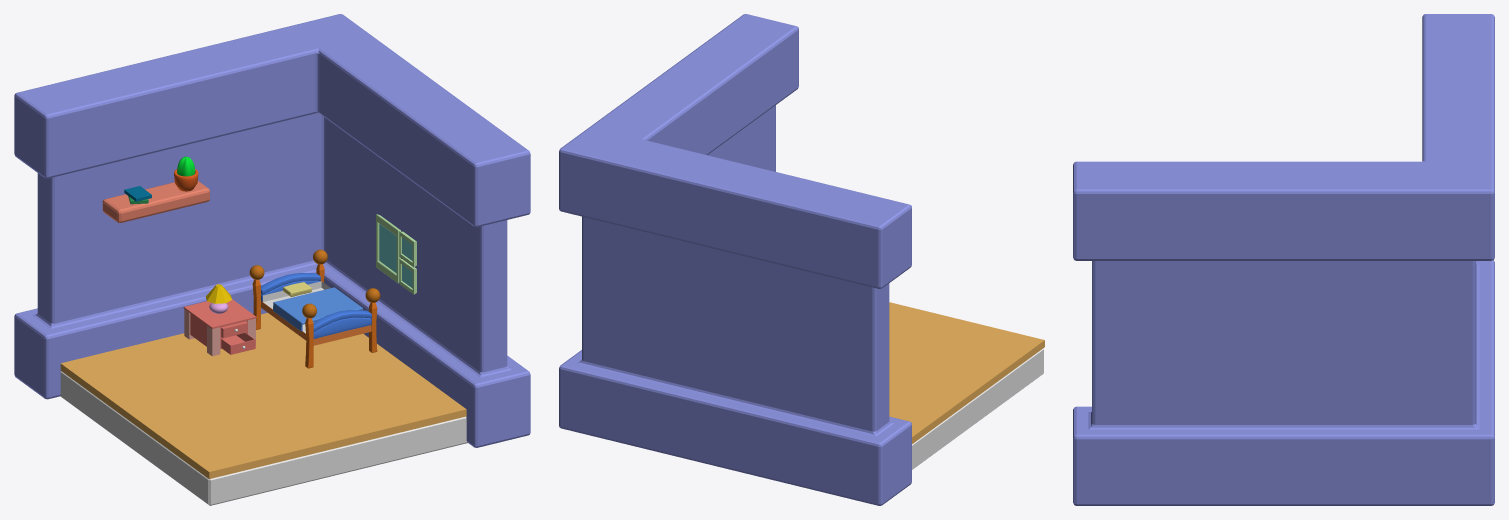
File: myroom.glb
3 views of the same model, side by side, from view 1: azimuth 30°, elevation 25°; view 2: azimuth 150°, elevation 25°; view 3: azimuth 270°, elevation 25° (orthographic). The views are drawn at different scales.
Visible parts, largest first — view 1: 큐브, 평면.001, 평면, 평면.009, 큐브.004, 평면.003, 평면.007, 평면.004, 구체, 평면.010, 큐브.001, 평면.002 (+1 smaller); view 2: 큐브, 평면.001, 평면; view 3: 큐브.
Part boxes in pixels (bbox=[...]): 큐브: bbox=[14, 14, 530, 447]; 평면.001: bbox=[60, 313, 466, 479]; 평면: bbox=[60, 371, 467, 505]; 평면.009: bbox=[183, 299, 256, 354]; 큐브.004: bbox=[102, 181, 209, 222]; 평면.003: bbox=[261, 273, 371, 338]; 평면.007: bbox=[273, 287, 362, 331]; 평면.004: bbox=[252, 264, 377, 368]; 구체: bbox=[249, 249, 380, 318]; 평면.010: bbox=[184, 309, 255, 356]; 큐브.001: bbox=[376, 214, 400, 283]; 평면.002: bbox=[261, 301, 371, 345]; 큐브: bbox=[559, 14, 911, 505]; 평면.001: bbox=[889, 302, 1044, 443]; 평면: bbox=[912, 348, 1043, 469]; 큐브: bbox=[1073, 14, 1494, 505].
Size of the model in its own units: 10.18 by 8.45 by 10.18.
